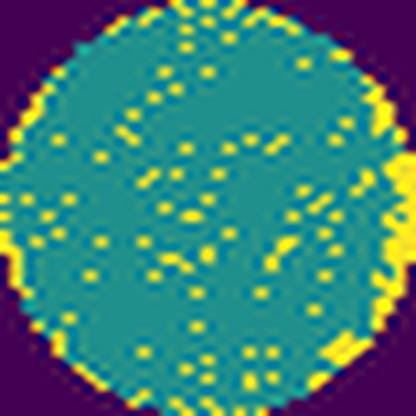Edge-Loc: (369, 148, 415, 337), (322, 326, 374, 374), (367, 81, 398, 135), (308, 371, 328, 394)
